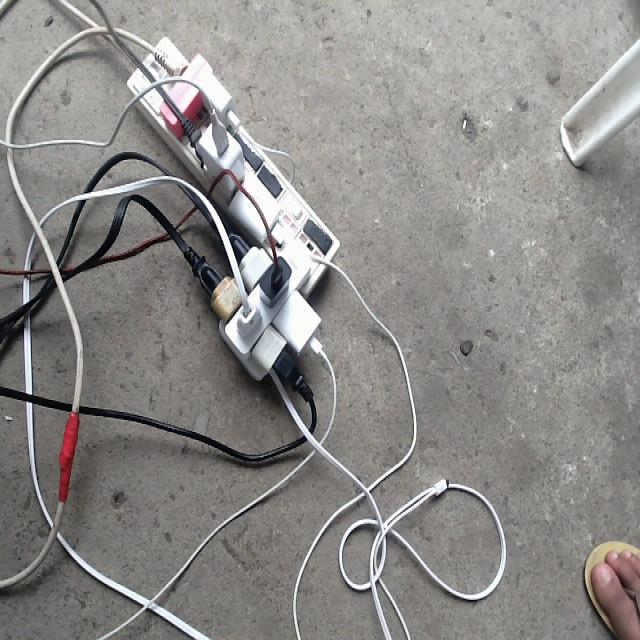-: (126, 33, 339, 403)
